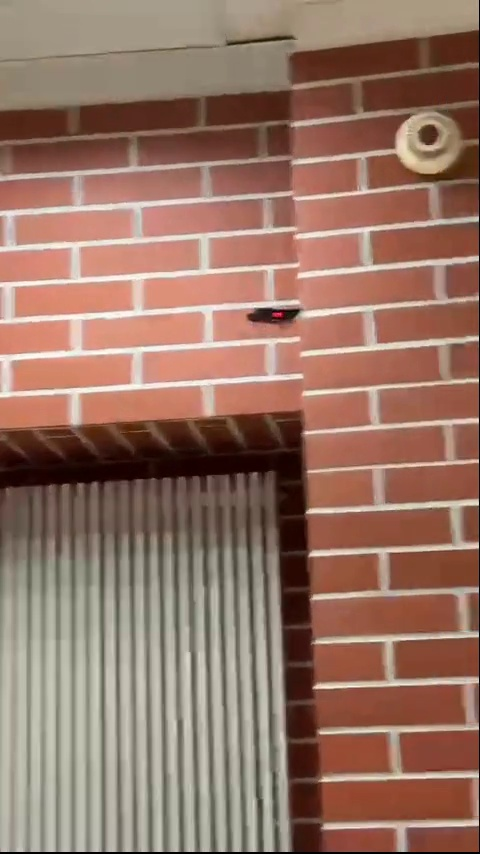drone: (246, 298, 301, 332)
